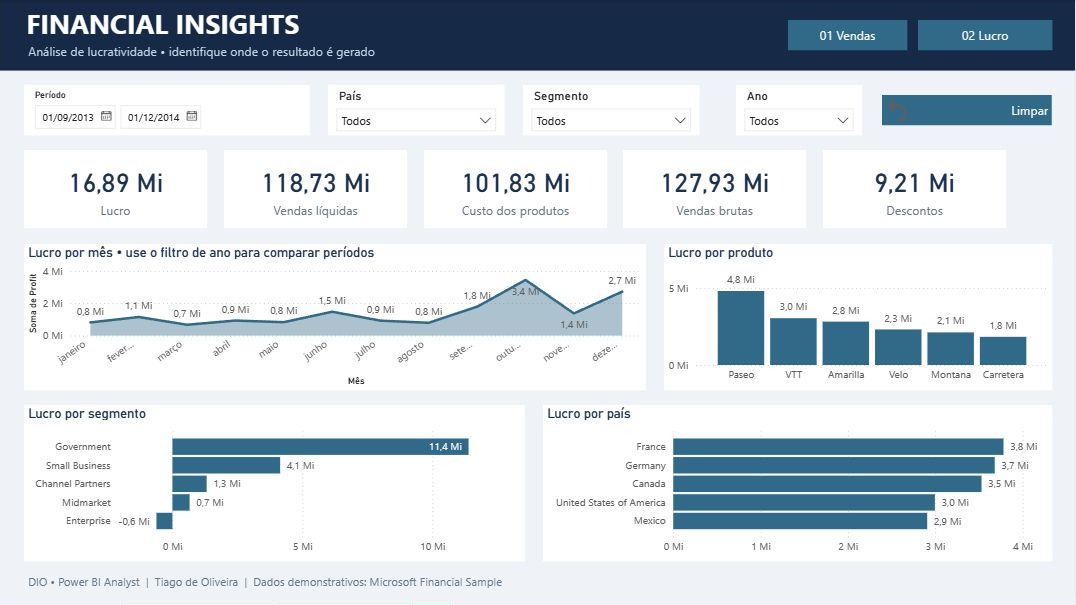

Layout of this report page (visuals, bound fields, positions):
{"tool":"powerbi","page":{"name":"02 • Lucratividade","canvas":[1280,720],"ordinal":1},"visuals":[{"type":"shape","box":[0,0,1280,84],"z":2600},{"type":"textbox","box":[26,0,450,68],"z":2700},{"type":"textbox","box":[28,45,700,39],"z":2800},{"type":"actionButton","box":[938,24,142,36],"z":2900},{"type":"actionButton","box":[1092,24,160,36],"z":3000},{"type":"slicer","fields":{"Values":["financials.Date"]},"box":[28,101,340,60],"z":3100},{"type":"slicer","fields":{"Values":["financials.Country"]},"box":[390,101,210,60],"z":3200},{"type":"slicer","fields":{"Values":["financials.Segment"]},"box":[622,101,210,60],"z":3300},{"type":"slicer","fields":{"Values":["financials.Year"]},"box":[876,101,150,60],"z":3400},{"type":"textbox","box":[28,678,1120,40],"z":3500},{"type":"card","fields":{"Values":["Sum(financials.Profit)"]},"box":[28,179,218,93],"z":3600},{"type":"card","fields":{"Values":["Sum(financials. Sales)"]},"box":[266,179,218,93],"z":3700},{"type":"card","fields":{"Values":["Sum(financials.COGS)"]},"box":[504,179,218,93],"z":3800},{"type":"card","fields":{"Values":["Sum(financials.Gross Sales)"]},"box":[742,179,218,93],"z":3900},{"type":"card","fields":{"Values":["Sum(financials.Discounts)"]},"box":[980,179,218,93],"z":4000},{"type":"areaChart","title":"Lucro por mês • use o filtro de ano para comparar períodos","fields":{"Category":["financials.Date.Variation.Hierarquia de datas.Mês"],"Y":["Sum(financials.Profit)"]},"box":[28,290,740,174],"z":4100},{"type":"clusteredColumnChart","title":"Lucro por produto","fields":{"Category":["financials.Product"],"Y":["Sum(financials.Profit)"]},"box":[790,290,462,174],"z":4200},{"type":"clusteredBarChart","title":"Lucro por segmento","fields":{"Category":["financials.Segment"],"Y":["Sum(financials.Profit)"]},"box":[28,482,596,186],"z":4300},{"type":"clusteredBarChart","title":"Lucro por país","fields":{"Category":["financials.Country"],"Y":["Sum(financials.Profit)"]},"box":[646,482,606,186],"z":4400},{"type":"actionButton","box":[1050,113,202,36],"z":4600}]}

Visuals, with their boxes in screenshot pixels (x1, y1, x2, y2), scaled from the page's 1280x720 canvas onto the 1076x605 screenshot:
shape: left=0, top=0, right=1075, bottom=71
textbox: left=22, top=0, right=400, bottom=57
textbox: left=24, top=38, right=612, bottom=71
actionButton: left=789, top=20, right=908, bottom=50
actionButton: left=918, top=20, right=1052, bottom=50
slicer - financials.Date: left=24, top=85, right=309, bottom=135
slicer - financials.Country: left=328, top=85, right=504, bottom=135
slicer - financials.Segment: left=523, top=85, right=699, bottom=135
slicer - financials.Year: left=736, top=85, right=862, bottom=135
textbox: left=24, top=570, right=965, bottom=603
card - Sum(financials.Profit): left=24, top=150, right=207, bottom=229
card - Sum(financials. Sales): left=224, top=150, right=407, bottom=229
card - Sum(financials.COGS): left=424, top=150, right=607, bottom=229
card - Sum(financials.Gross Sales): left=624, top=150, right=807, bottom=229
card - Sum(financials.Discounts): left=824, top=150, right=1007, bottom=229
"Lucro por mês • use o filtro de ano para comparar períodos" areaChart: left=24, top=244, right=646, bottom=390
"Lucro por produto" clusteredColumnChart: left=664, top=244, right=1052, bottom=390
"Lucro por segmento" clusteredBarChart: left=24, top=405, right=525, bottom=561
"Lucro por país" clusteredBarChart: left=543, top=405, right=1052, bottom=561
actionButton: left=883, top=95, right=1052, bottom=125
